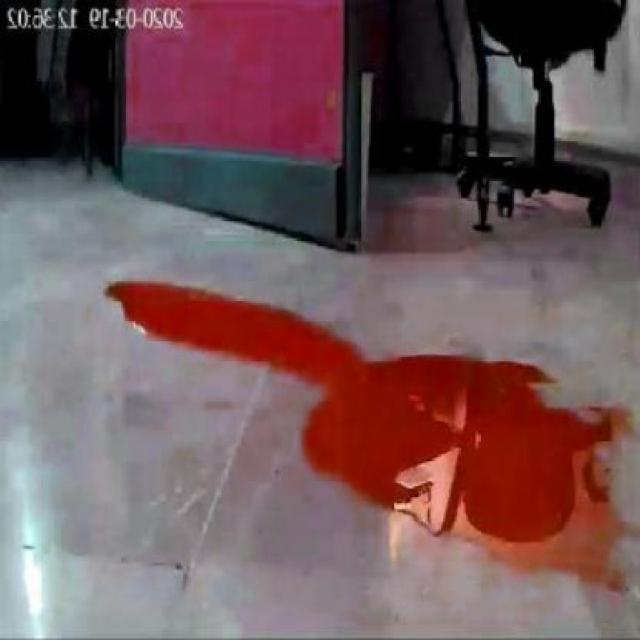spillage: (104, 282, 622, 592)
